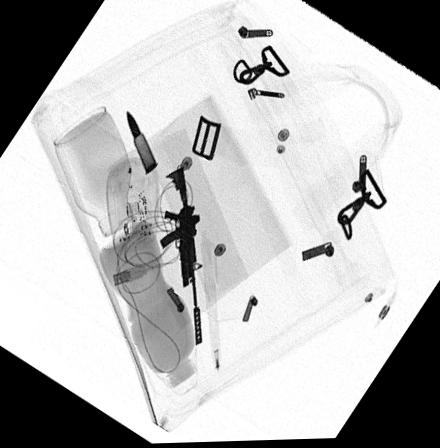Bullet: (125, 112, 157, 175)
Gun: (158, 166, 201, 345)
